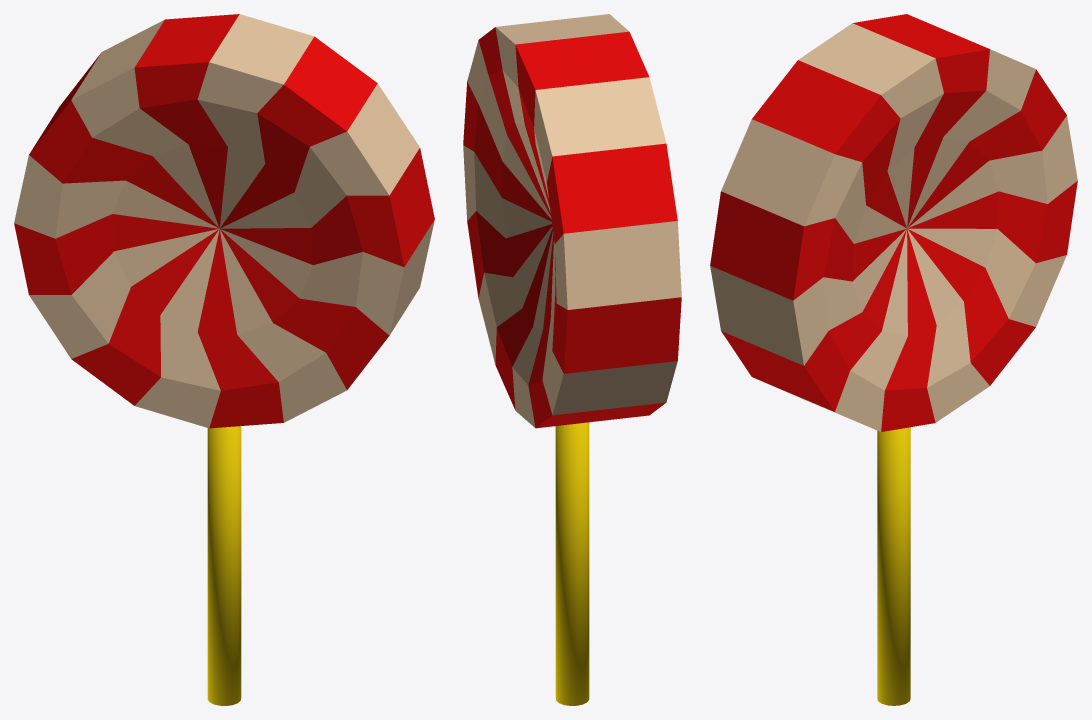
File: lollipop.gltf
The picture shows the model from 3 angles, left to right: view 1: azimuth 30°, elevation 25°; view 2: azimuth 150°, elevation 25°; view 3: azimuth 270°, elevation 25°; orthographic projection.
Parts seen in each view (by area): view 1: Lollipop on stick; view 2: Lollipop on stick; view 3: Lollipop on stick.
Boxes of the visible parts, box(x1,y1,x2,y2) form: Lollipop on stick: box(14, 14, 434, 705); Lollipop on stick: box(463, 14, 681, 705); Lollipop on stick: box(710, 14, 1077, 705).
Bounding box in the file's own units: 0.3367 × 0.665 × 0.3367.
